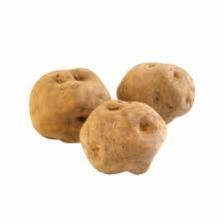Damaged potato: (73, 96, 171, 180), (23, 65, 113, 150), (112, 61, 199, 133)
